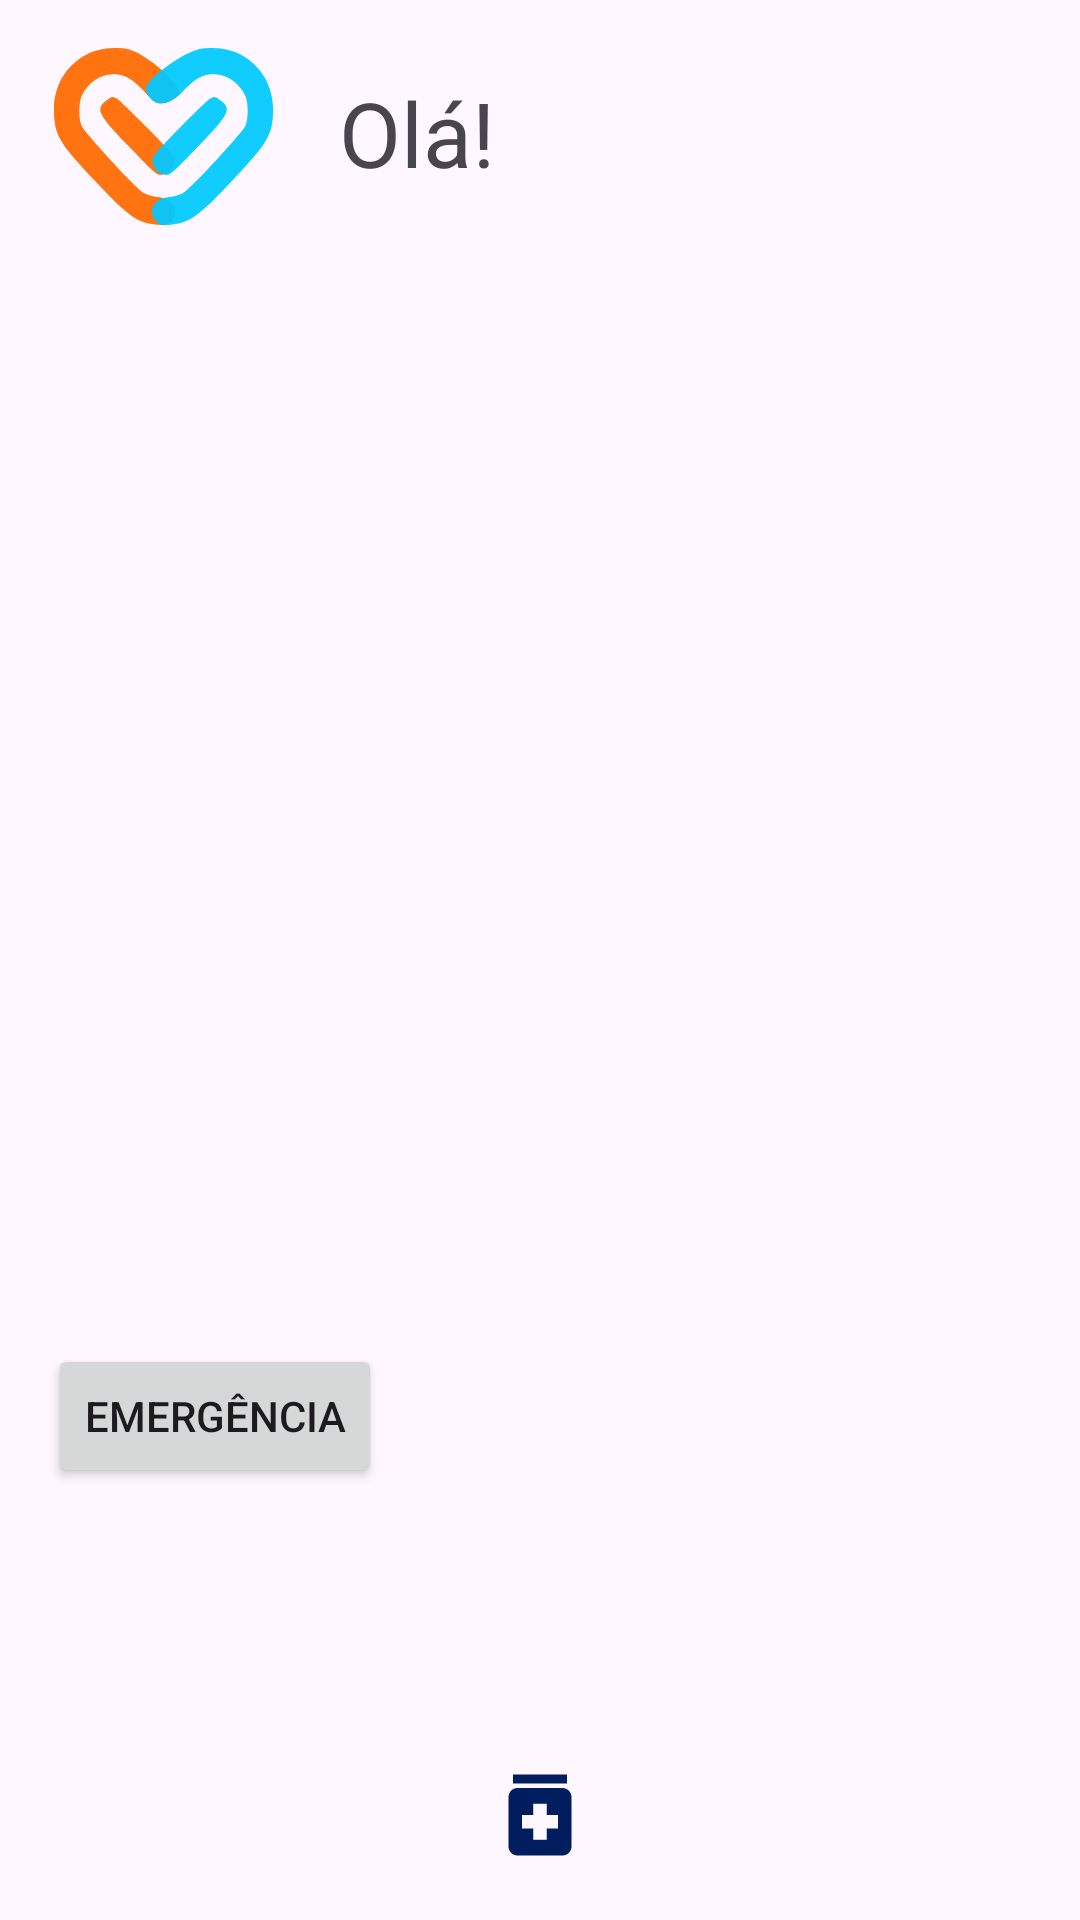

Named icons in this screenshot (1080w x 1920h) and their centers, (x=x, y=y):
medication: (x=540, y=1815)
